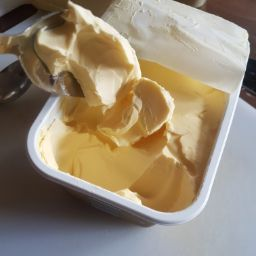Butter: (85, 44, 214, 205), (16, 8, 162, 132)
